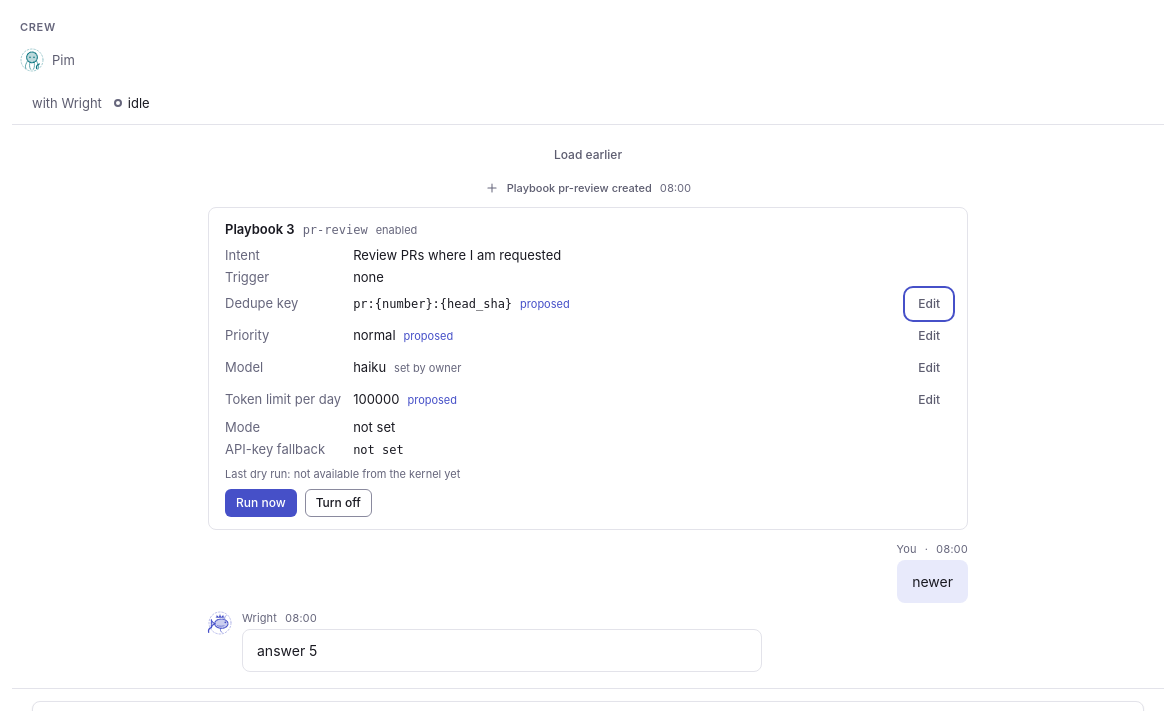
Test case: #/chat?playbook=<id>: scroll to the playbook's card › Load earlier after the card was scrolled to still keeps the reading position (no stale guard)
Click the button "Load earlier": (588, 155) [543,141,633,169]
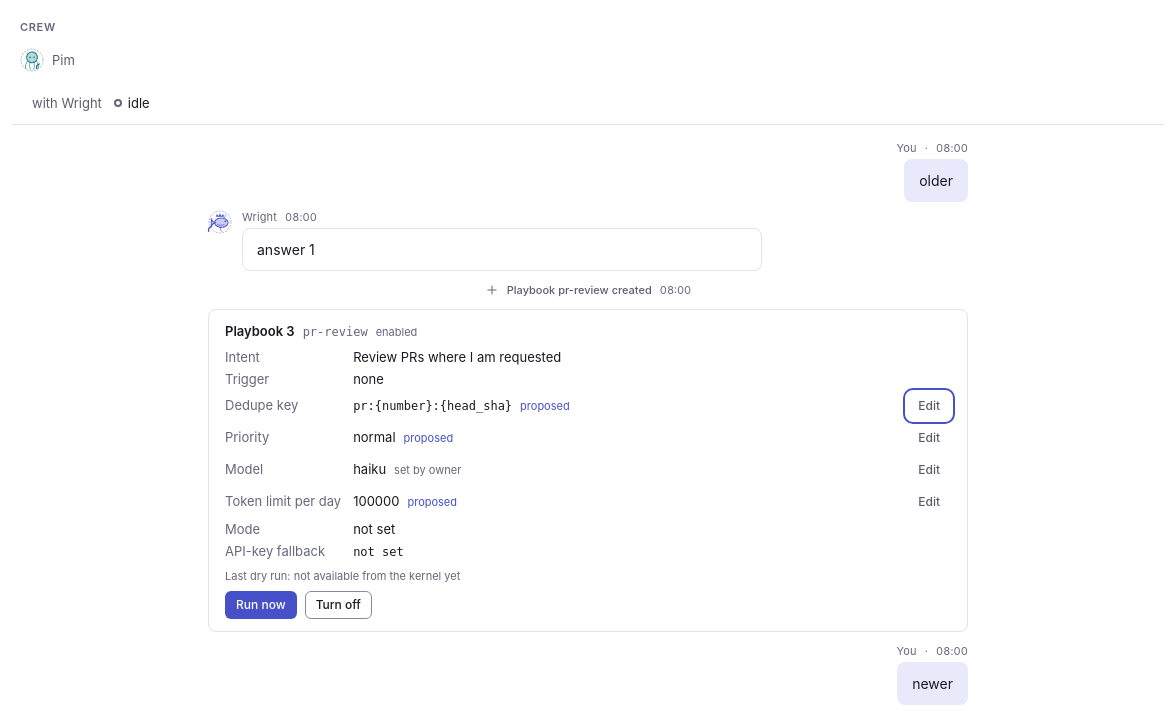
Check: the text "older" is shown, box [919,172,953,189]
